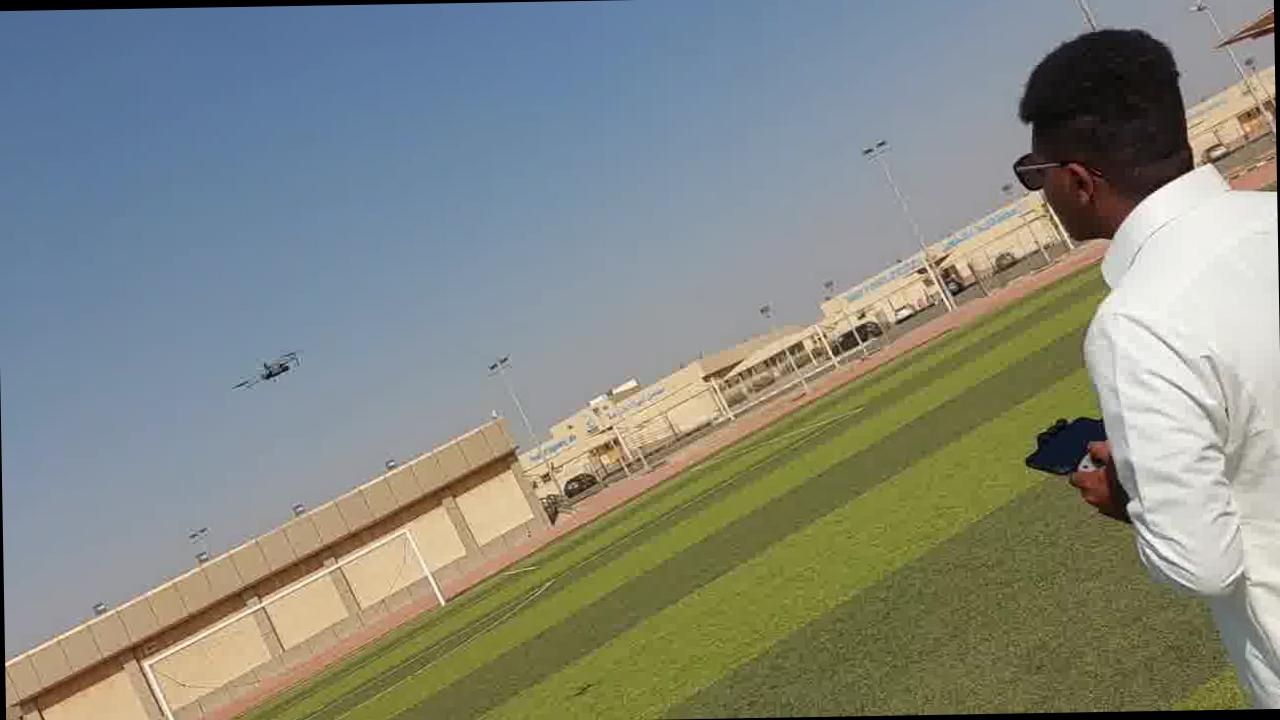drone: (224, 344, 310, 396)
